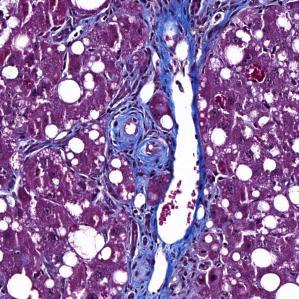fibrosis: (93, 99, 173, 180), (134, 7, 217, 76), (126, 223, 194, 299)
